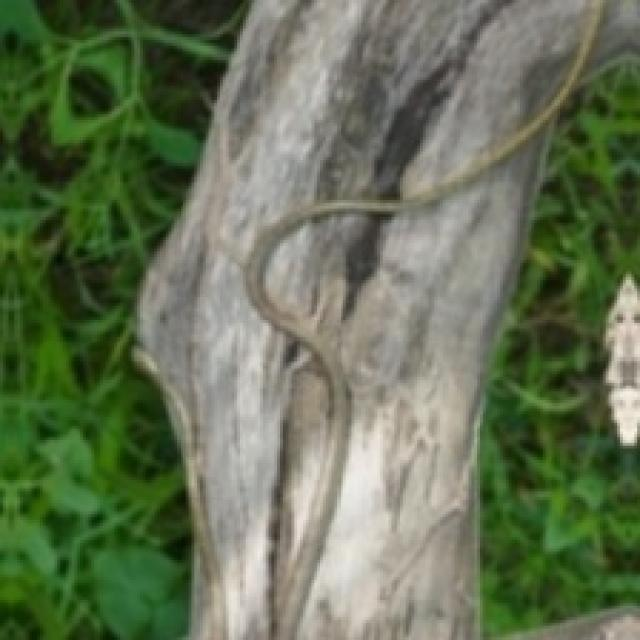paradise tree snake: (245, 0, 603, 633)
